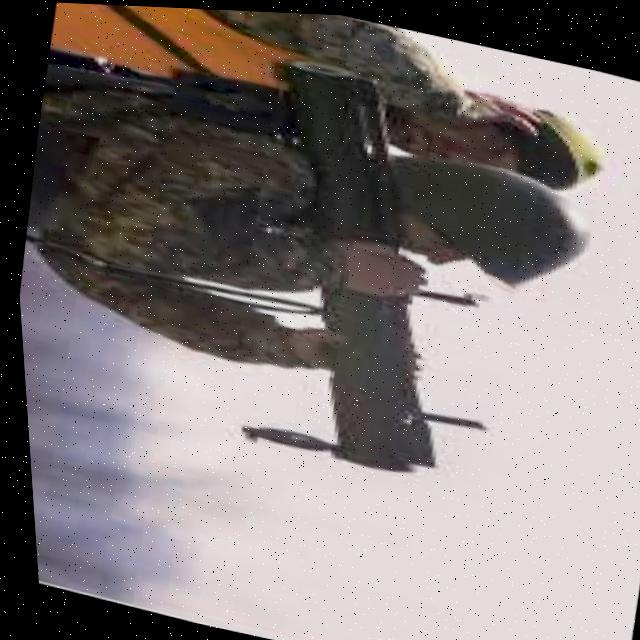rocket: (196, 41, 514, 484)
